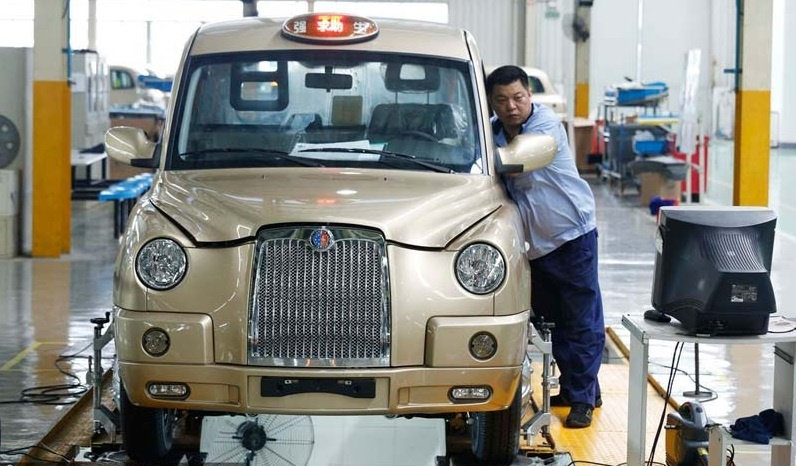taxi: (115, 20, 538, 457)
